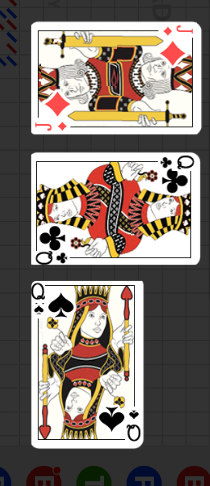9S: (126, 407, 143, 444)
JD: (161, 23, 195, 36)
QC: (31, 219, 78, 263), (152, 152, 198, 196)
